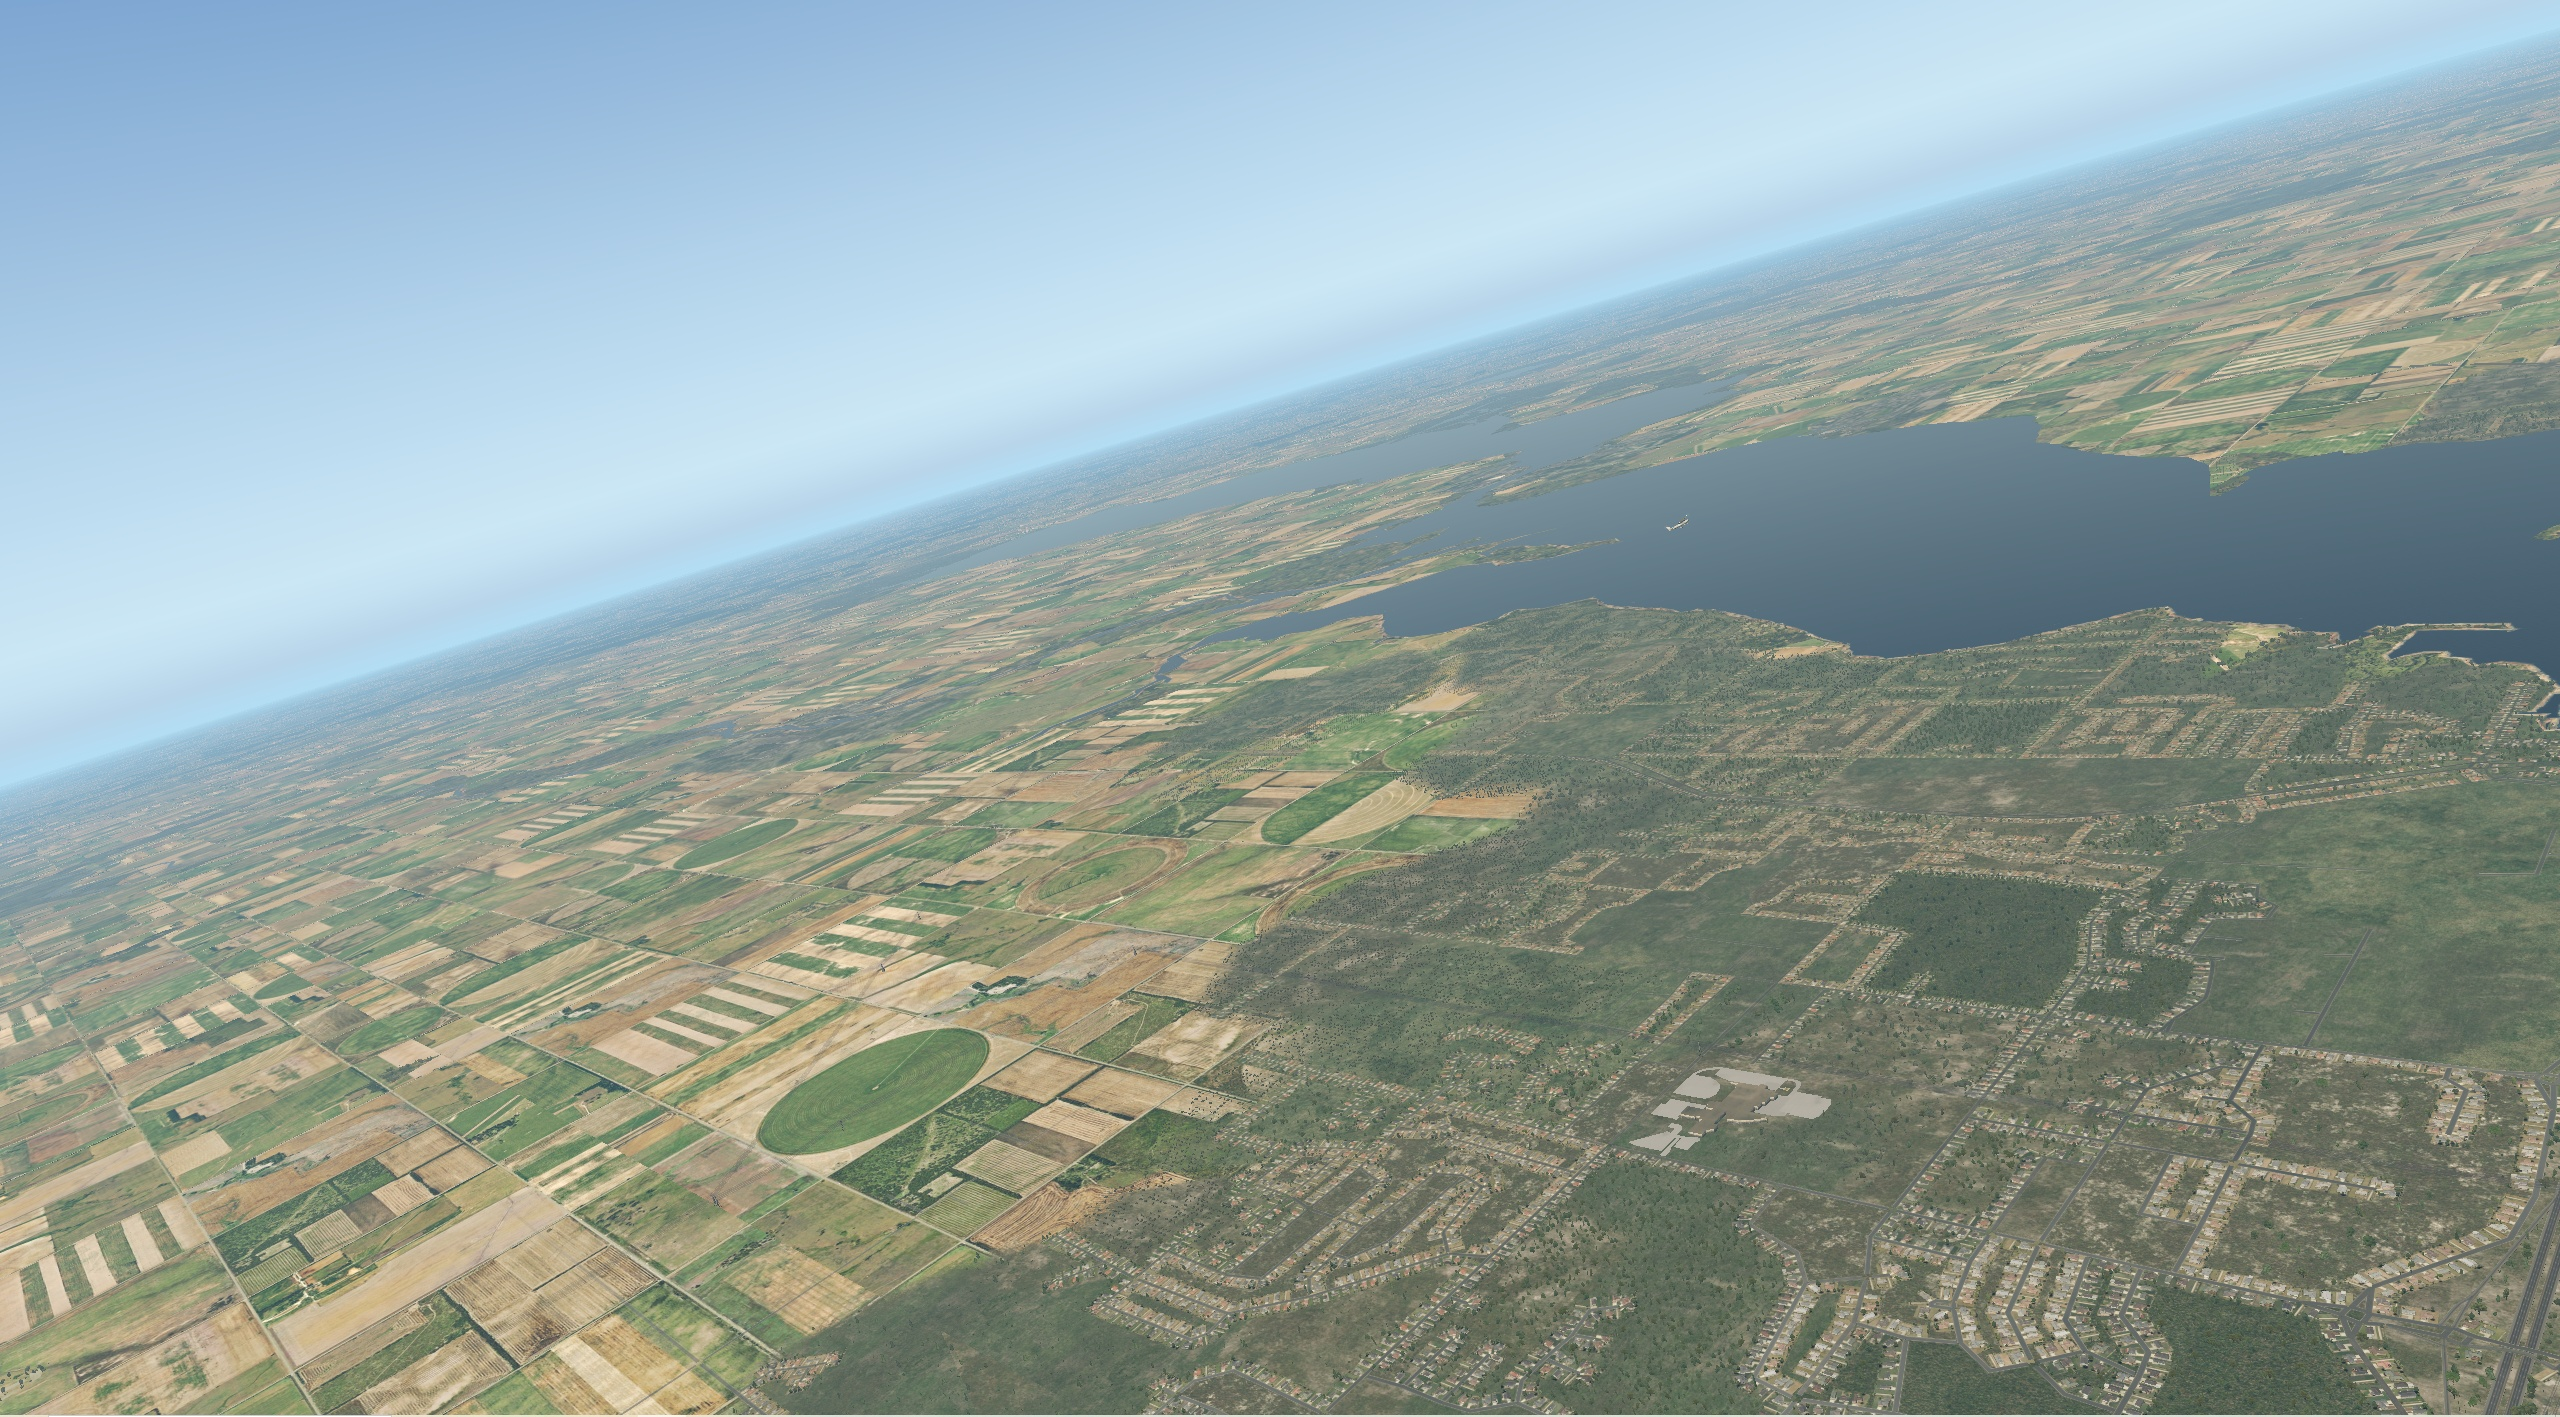aircraft: (1663, 515, 1701, 531)
